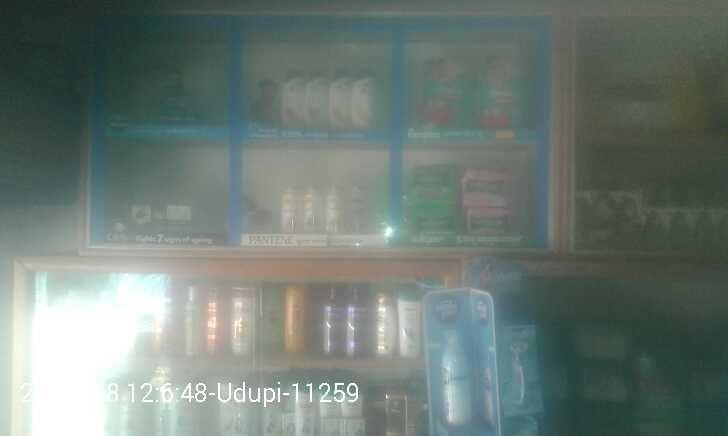beauty: (351, 66, 381, 130), (278, 70, 304, 135), (304, 68, 328, 134), (332, 61, 351, 133), (275, 183, 301, 234), (302, 177, 323, 234), (129, 200, 153, 240), (325, 186, 342, 236)
pharmacy: (415, 52, 473, 128), (479, 48, 530, 129), (458, 166, 513, 205), (401, 206, 460, 238), (462, 203, 510, 236), (401, 182, 459, 207)
